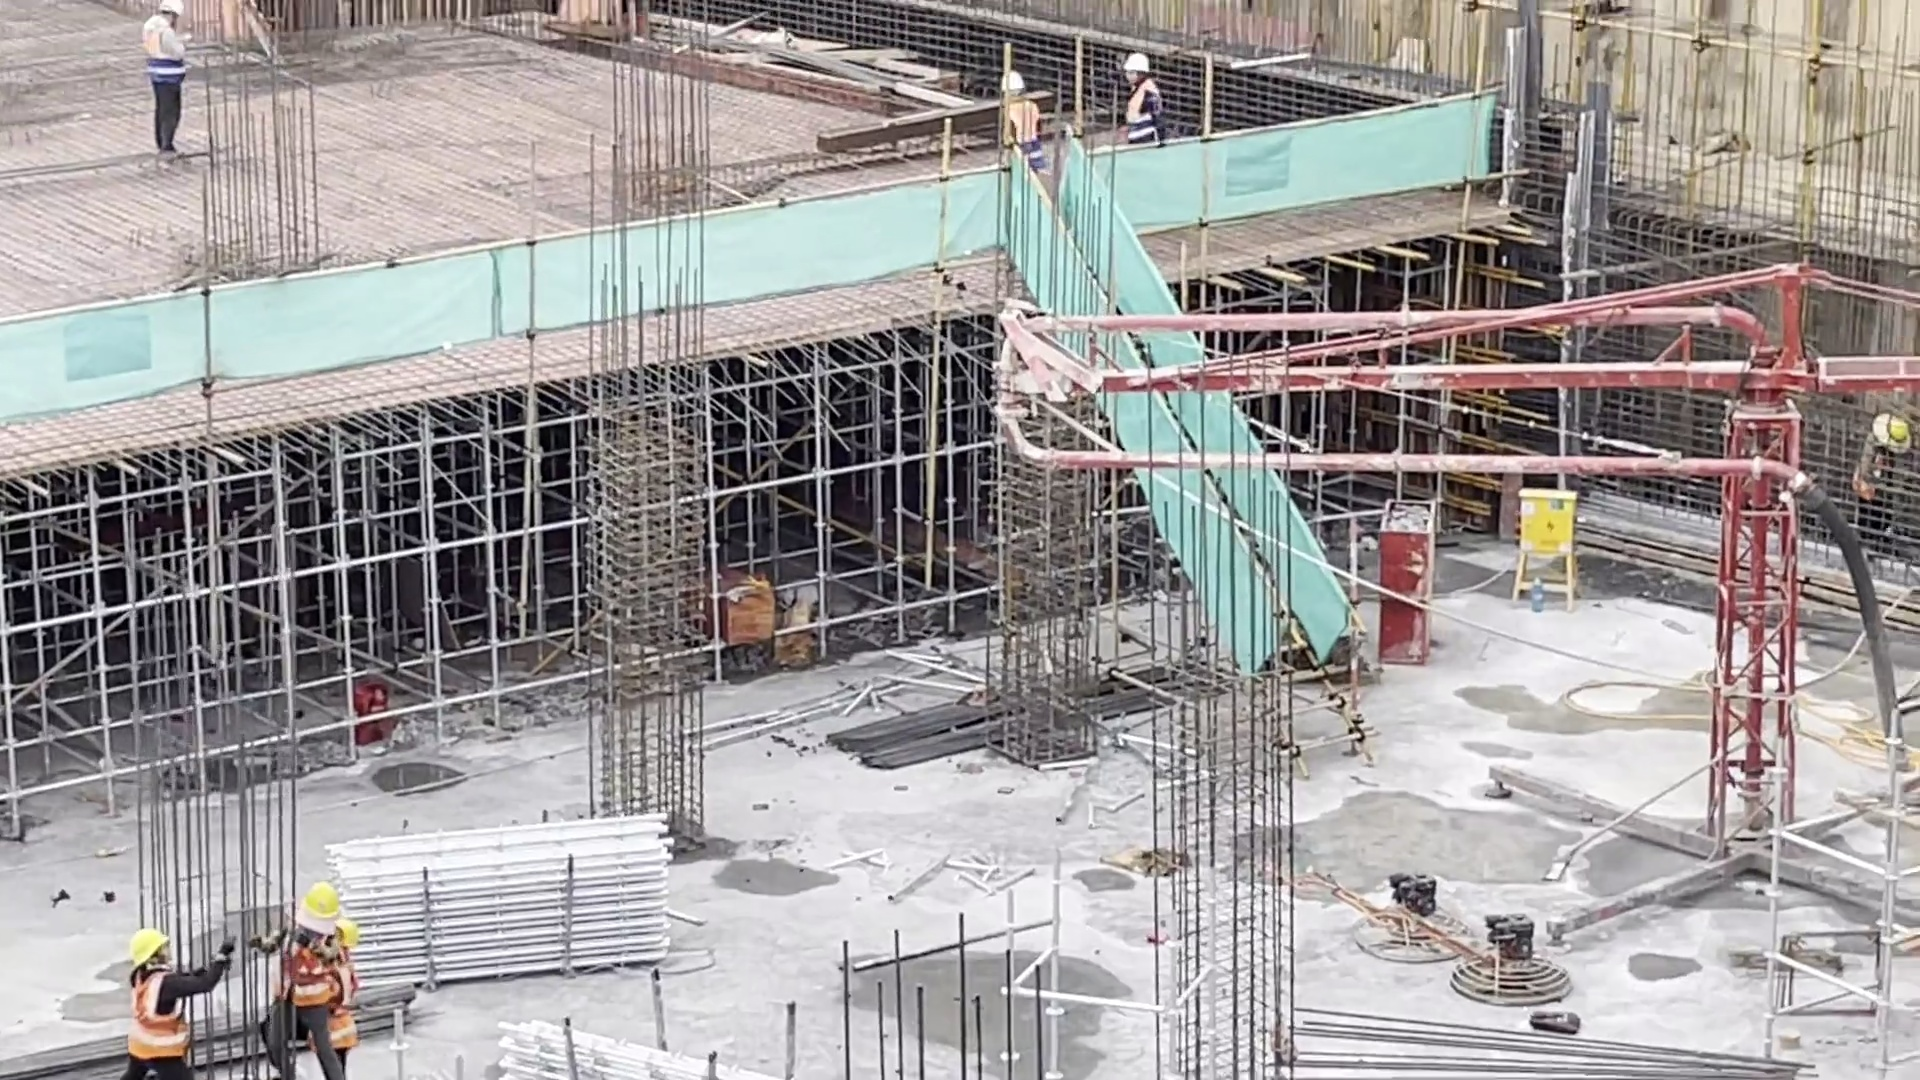helmet: (128, 930, 172, 965), (297, 883, 338, 917), (1878, 408, 1914, 445), (996, 69, 1028, 91), (1122, 54, 1162, 72), (160, 1, 188, 18)
person: (248, 887, 358, 1078), (115, 929, 231, 1079), (133, 7, 193, 161), (1856, 400, 1910, 559), (991, 58, 1053, 161), (1116, 47, 1168, 147)
vest: (128, 976, 191, 1060), (277, 936, 335, 1009), (146, 23, 186, 80), (1122, 90, 1162, 140), (336, 967, 360, 1049), (1005, 106, 1041, 142)
